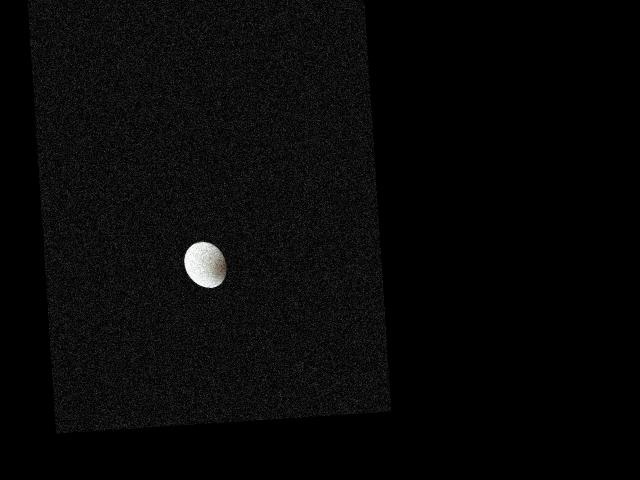egg: (183, 240, 227, 290)
